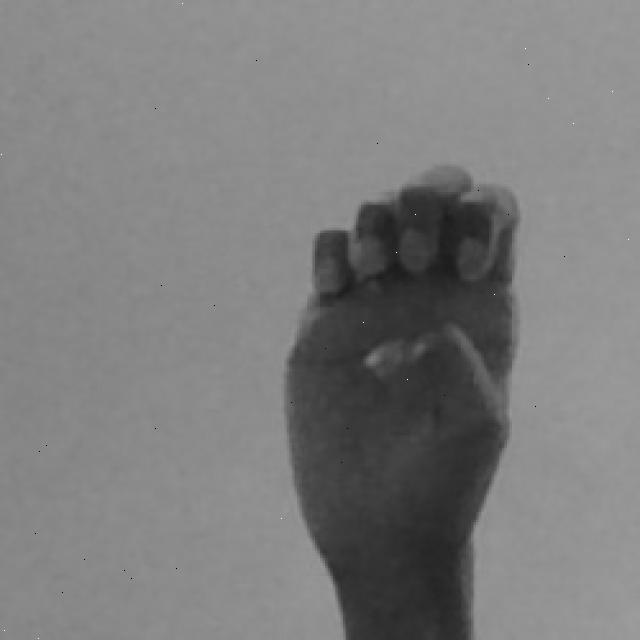E: (283, 158, 532, 640)
